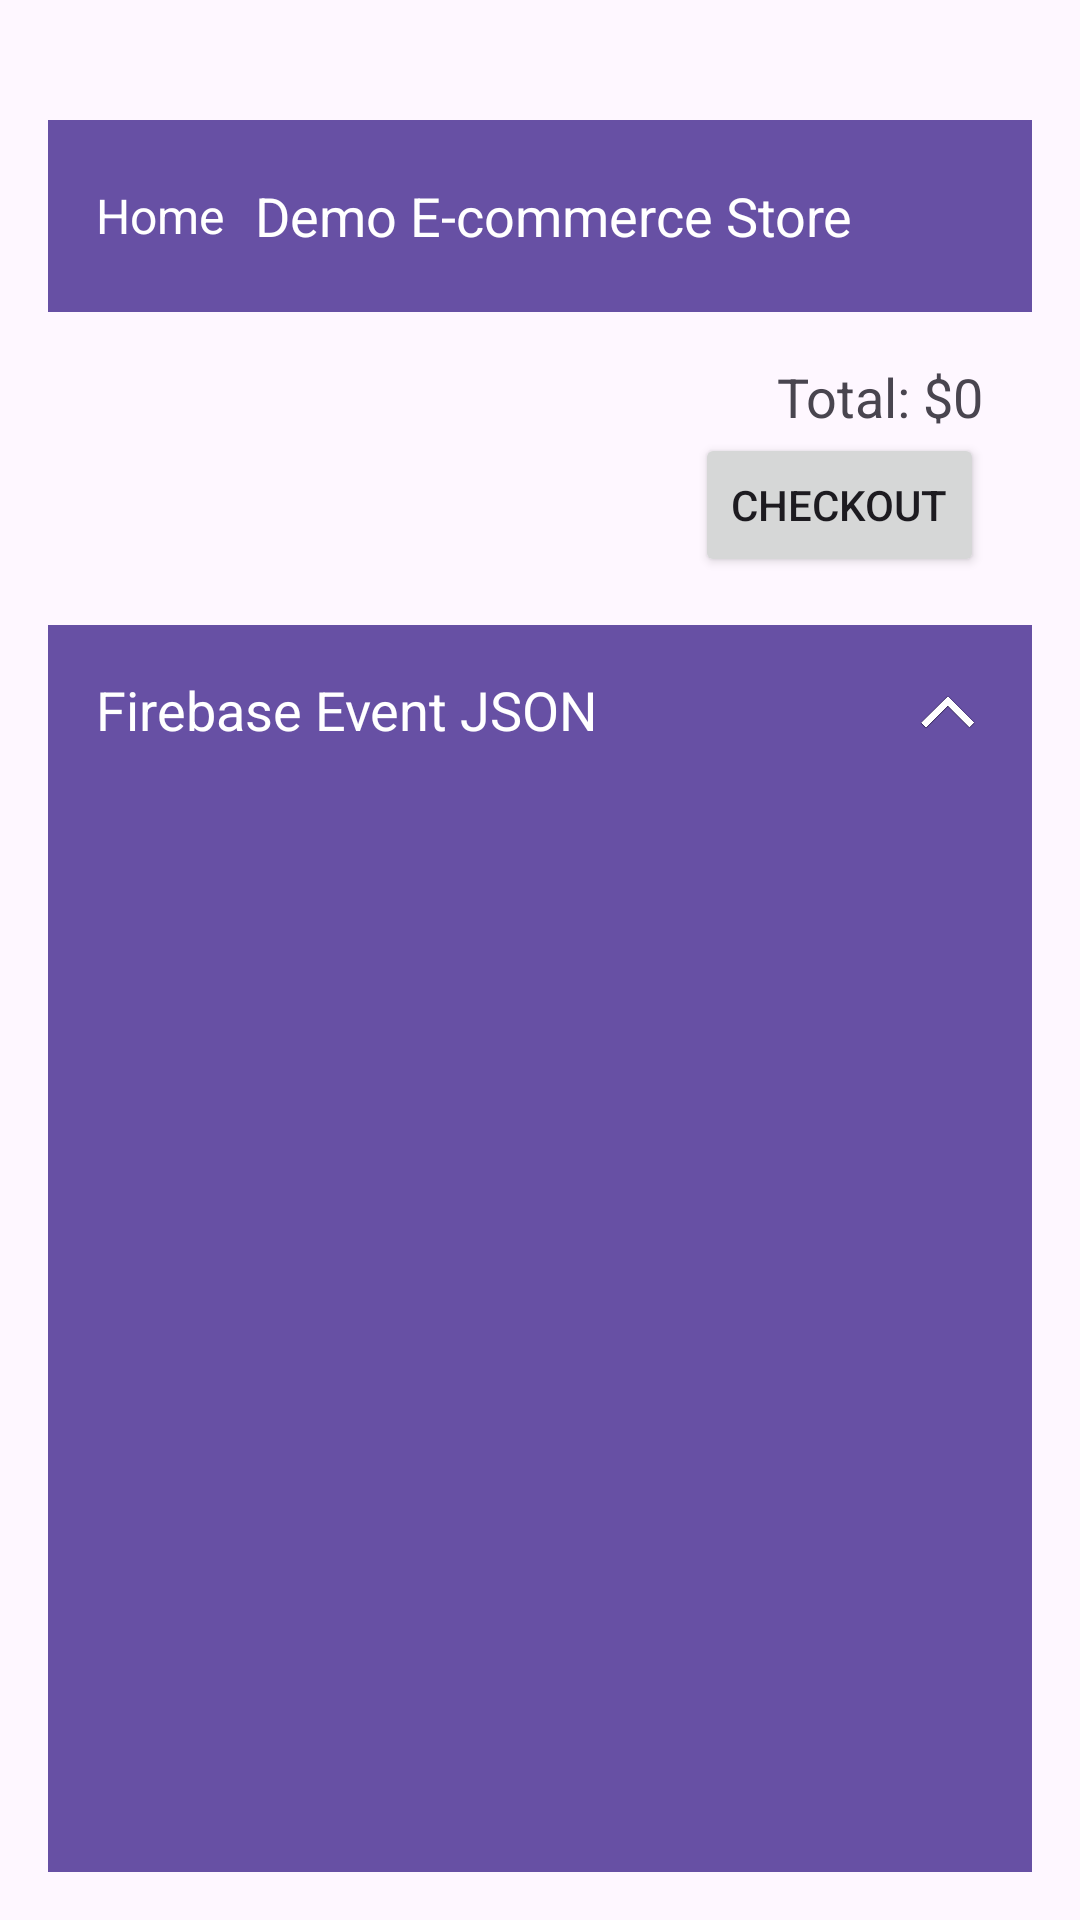

Named icons in this screenshot (1080×1920) and their bounding boxes, (x1, y1, x2, y2):
up arrow: (921, 696, 974, 728)
